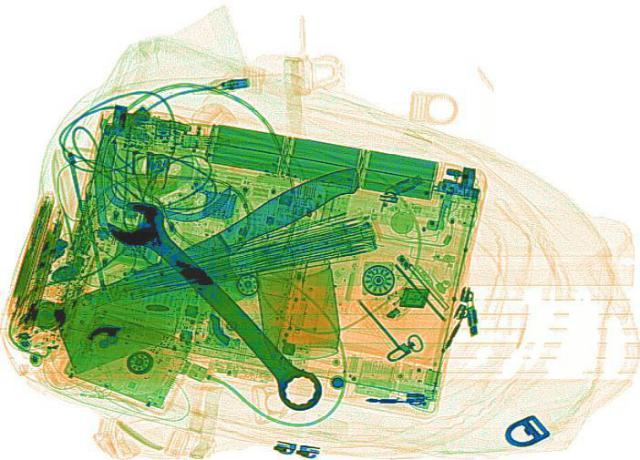Knife: (14, 158, 413, 377)
Wrench: (90, 191, 342, 413)
